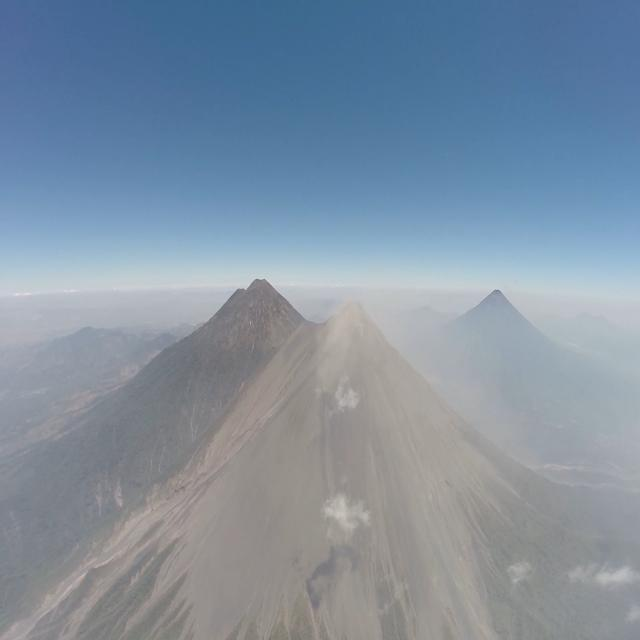Plume: (312, 304, 360, 398)
Summit: (323, 298, 386, 340)
